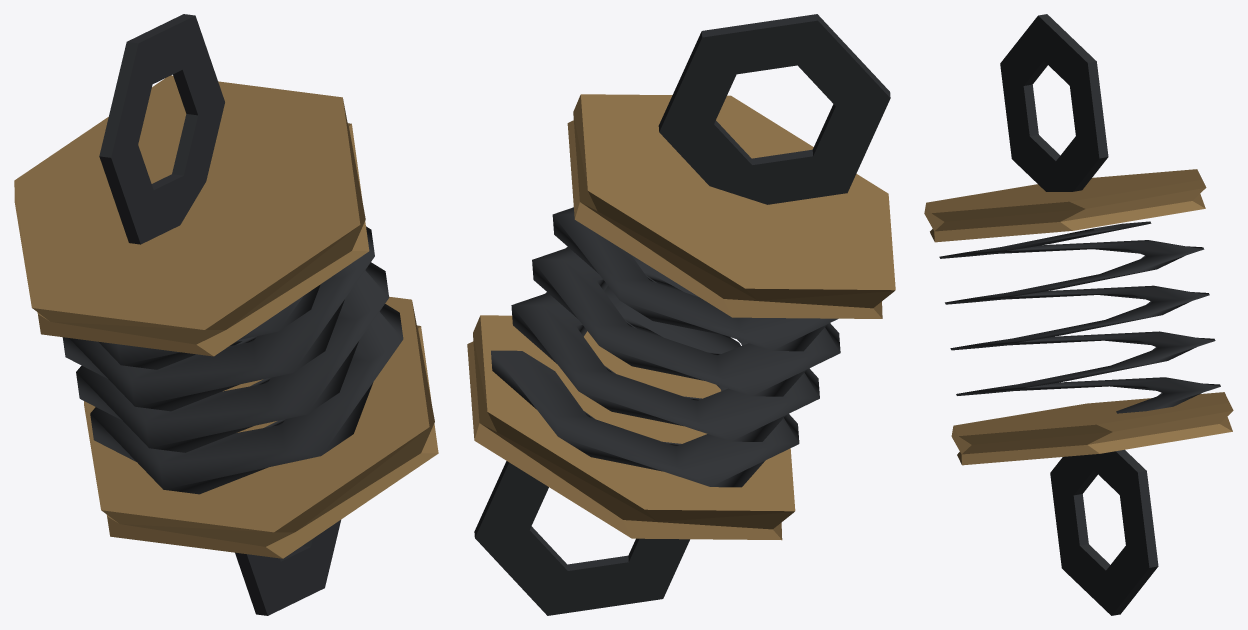
Rendered from heavy_tension_spring.glb.
3 renders of one model, left to right at view 1: azimuth 30°, elevation 25°; view 2: azimuth 150°, elevation 25°; view 3: azimuth 270°, elevation 25°, orthographic. The views are drawn at different scales.
Parts seen in each view (by area): view 1: Mesh; view 2: Mesh; view 3: Mesh.
Boxes of the visible parts, box(x1,y1,x2,y2) form: Mesh: box(14, 14, 438, 615); Mesh: box(467, 14, 895, 615); Mesh: box(924, 14, 1233, 615).
Bounding box in the file's own units: 0.2537 × 0.3718 × 0.2042.
